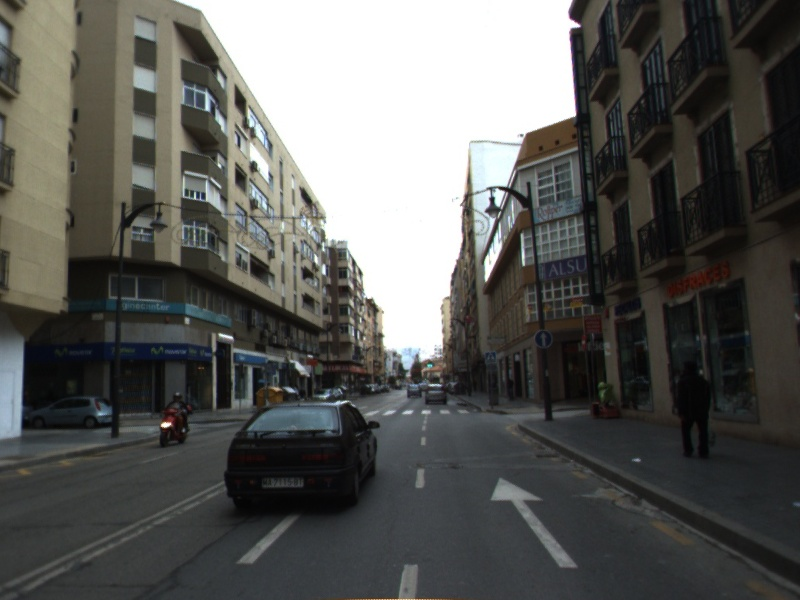STRAIGHT: (486, 474, 580, 570)
